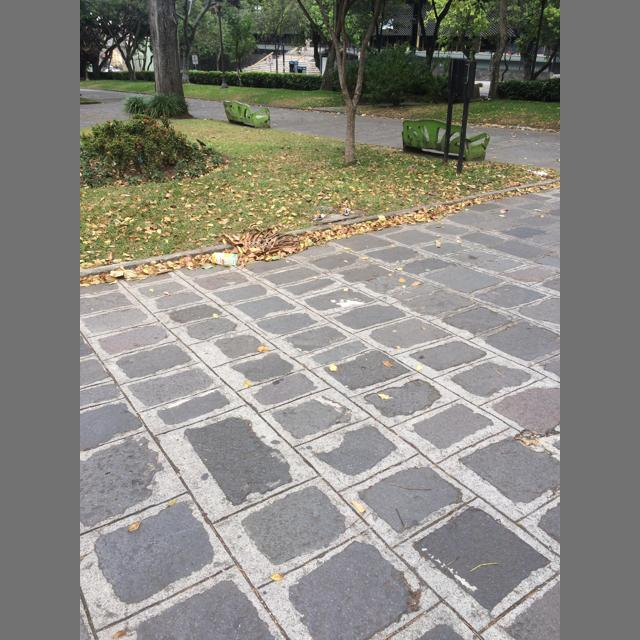litter: (209, 252, 238, 266), (138, 157, 144, 163)
